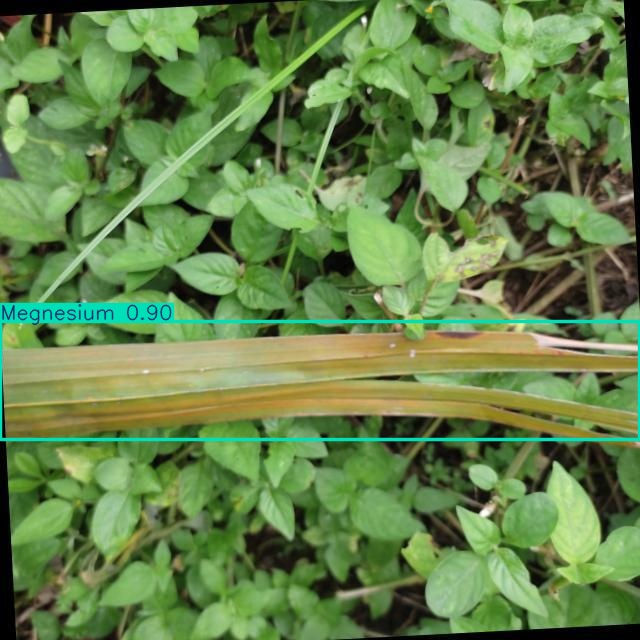Megnesium: (1, 322, 640, 440)
